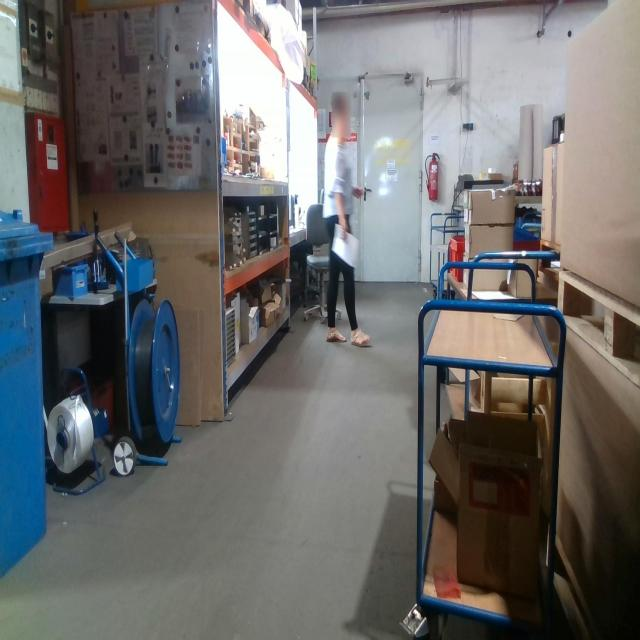pallet: (555, 260, 640, 391), (546, 526, 594, 635), (536, 237, 566, 274)
